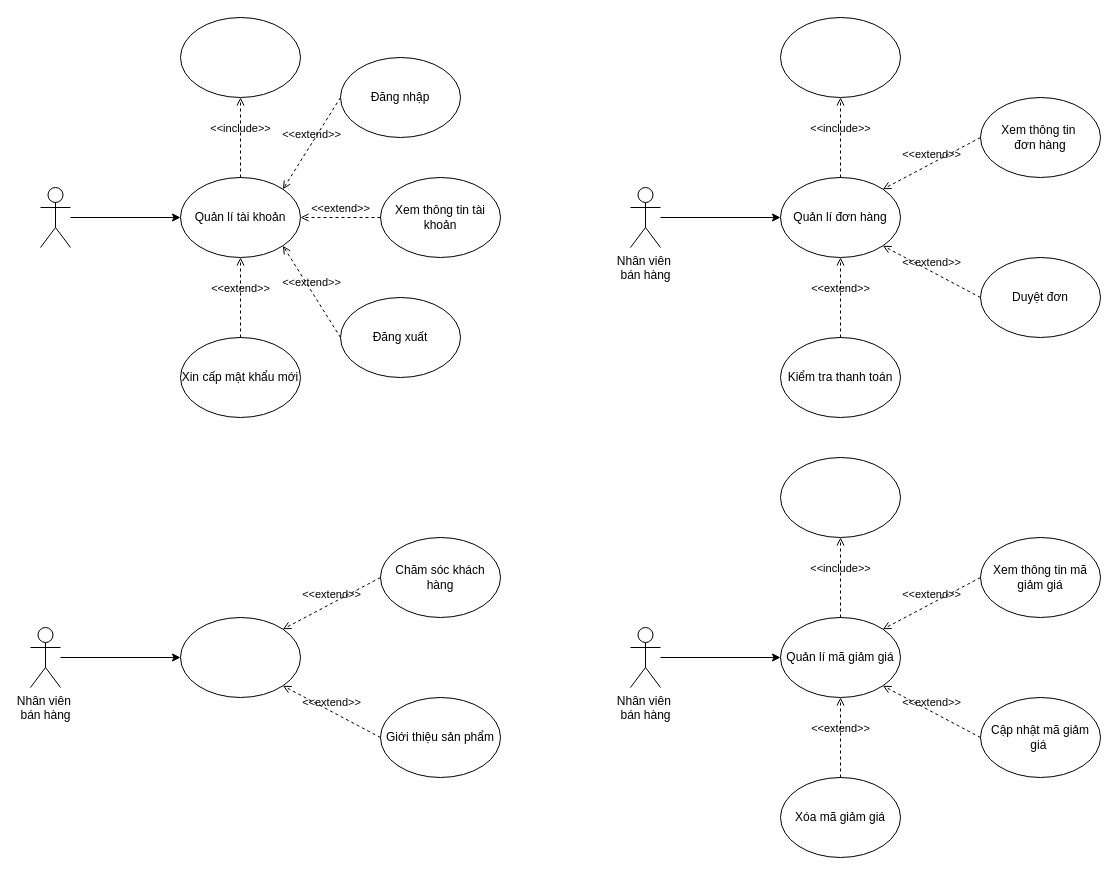
Image size: 1118x875. Some labels were removed from this diagram. The centre of each missing label's shape, as x and y in pixels:
"Nhân viên" belongs at point 55,217.
"Quản lí khách hàng" belongs at point 240,657.
"Thêm mã giảm giá" belongs at point 840,497.
"XIn cấp tài khoản" belongs at point 240,57.
"Xác nhận đơn hàng" belongs at point 840,57.
